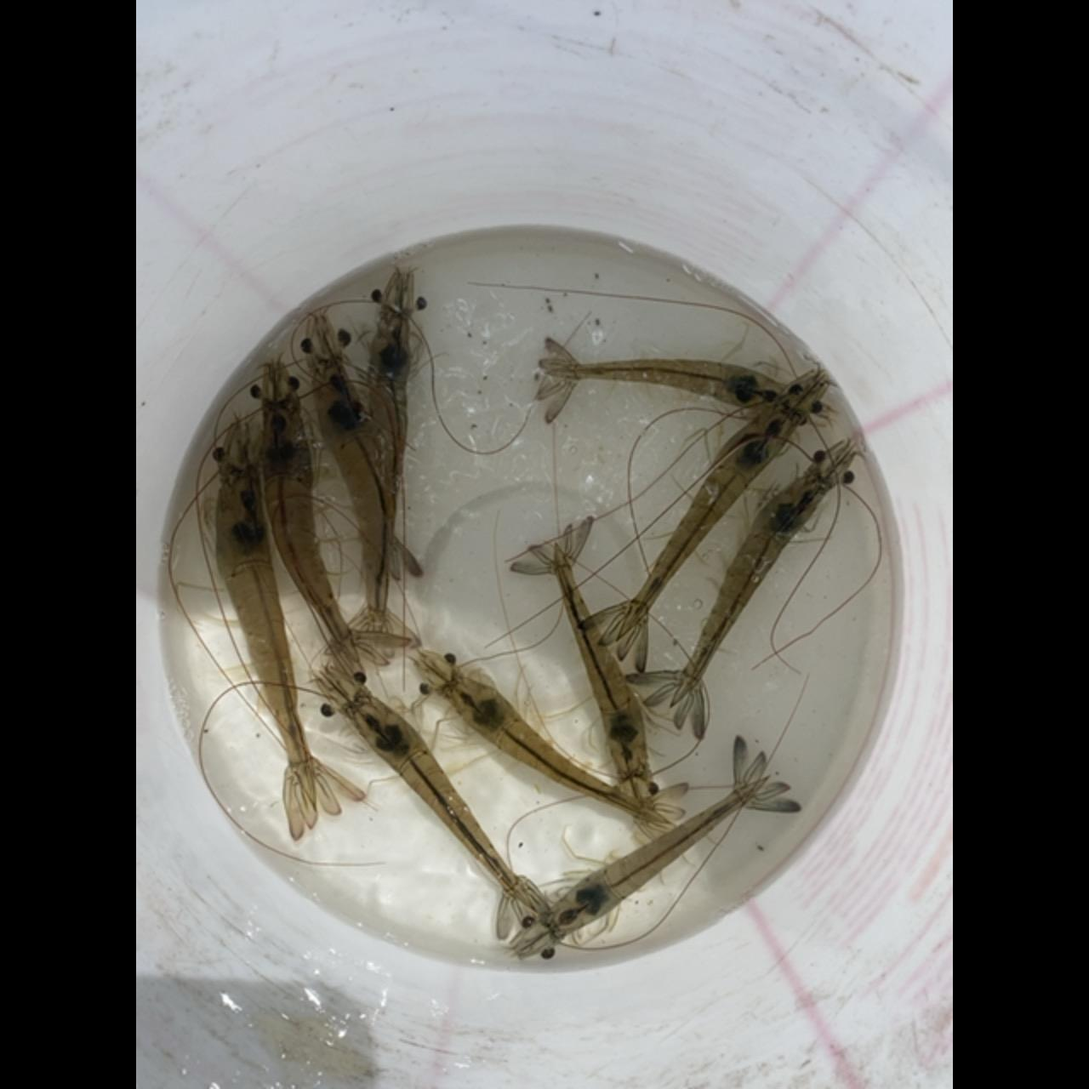round_base: (176, 233, 873, 959)
top_shrimp: (614, 395, 803, 642), (346, 695, 533, 909), (545, 778, 762, 937), (214, 468, 316, 806), (679, 469, 830, 695), (442, 676, 664, 820), (259, 398, 359, 663), (317, 355, 391, 659), (552, 543, 648, 777), (546, 359, 801, 415), (367, 311, 411, 549)
